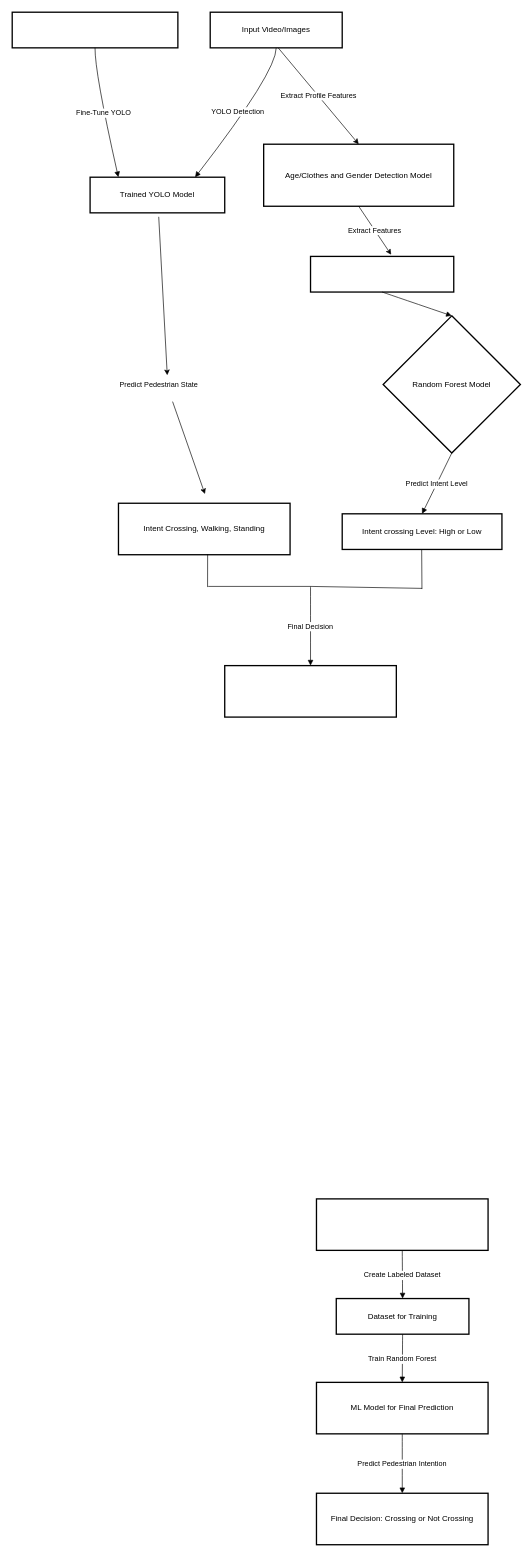
The diagram is 532 pixels wide and 1556 high, and some of its shapes have lost their labels. The box of each missing label's shape, as (x1, y1, x2, y2) in pixels:
Age, Gender, Clothing: (310, 255, 454, 292)
Custom Annotated Dataset: (11, 11, 178, 48)
Intent Crossing(HIGH,LOW), Walking, Standing: (224, 665, 397, 717)
Manual Labeling: Crossing or Not Crossing: (315, 1198, 488, 1251)
